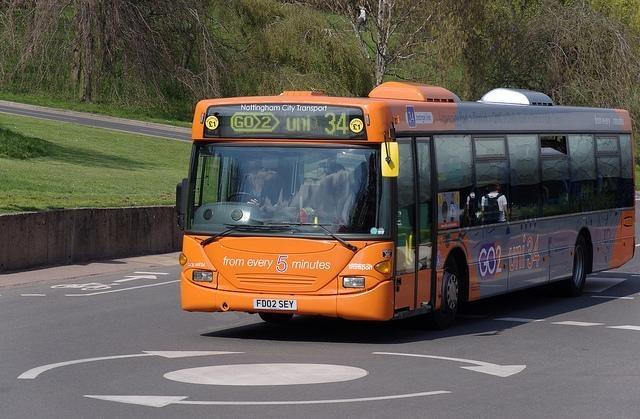bus: (172, 84, 638, 327)
